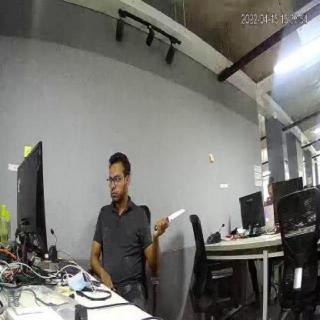knife: (160, 204, 186, 223)
